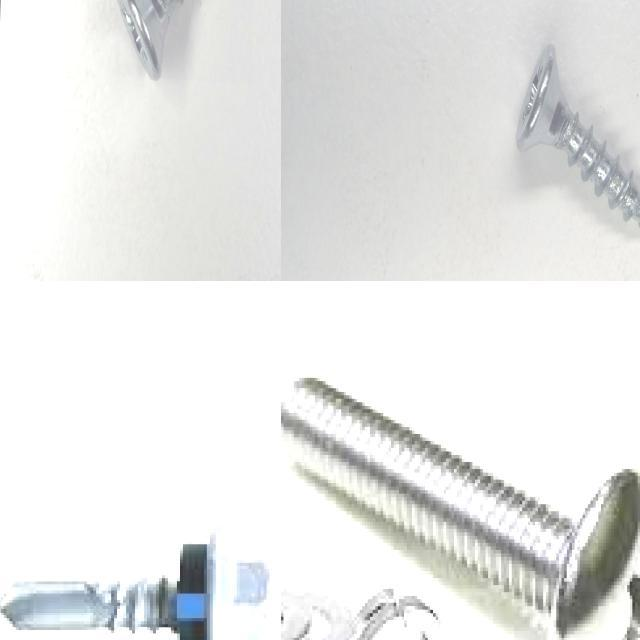Screw: (281, 378, 640, 640), (0, 526, 279, 640), (516, 43, 640, 224), (117, 0, 183, 79)
